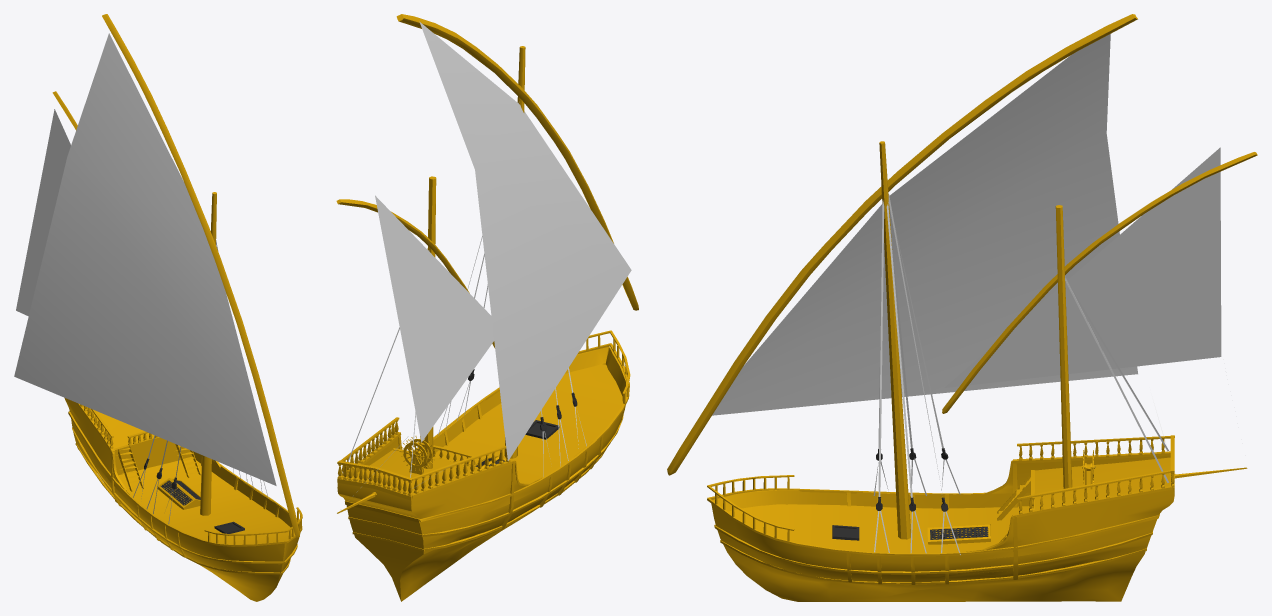
File: shrekboat.fbx
3 renders of one model, left to right at view 1: azimuth 30°, elevation 25°; view 2: azimuth 150°, elevation 25°; view 3: azimuth 270°, elevation 25°, orthographic. The views are drawn at different scales.
Visible parts, largest first — view 1: cloth; view 2: cloth; view 3: cloth.
Boxes of the visible parts, <box> form: cloth: <box>14,14,302,601</box>; cloth: <box>336,14,638,601</box>; cloth: <box>667,14,1257,601</box>.
Bounding box in the file's own units: 454 × 1432 × 1312.
